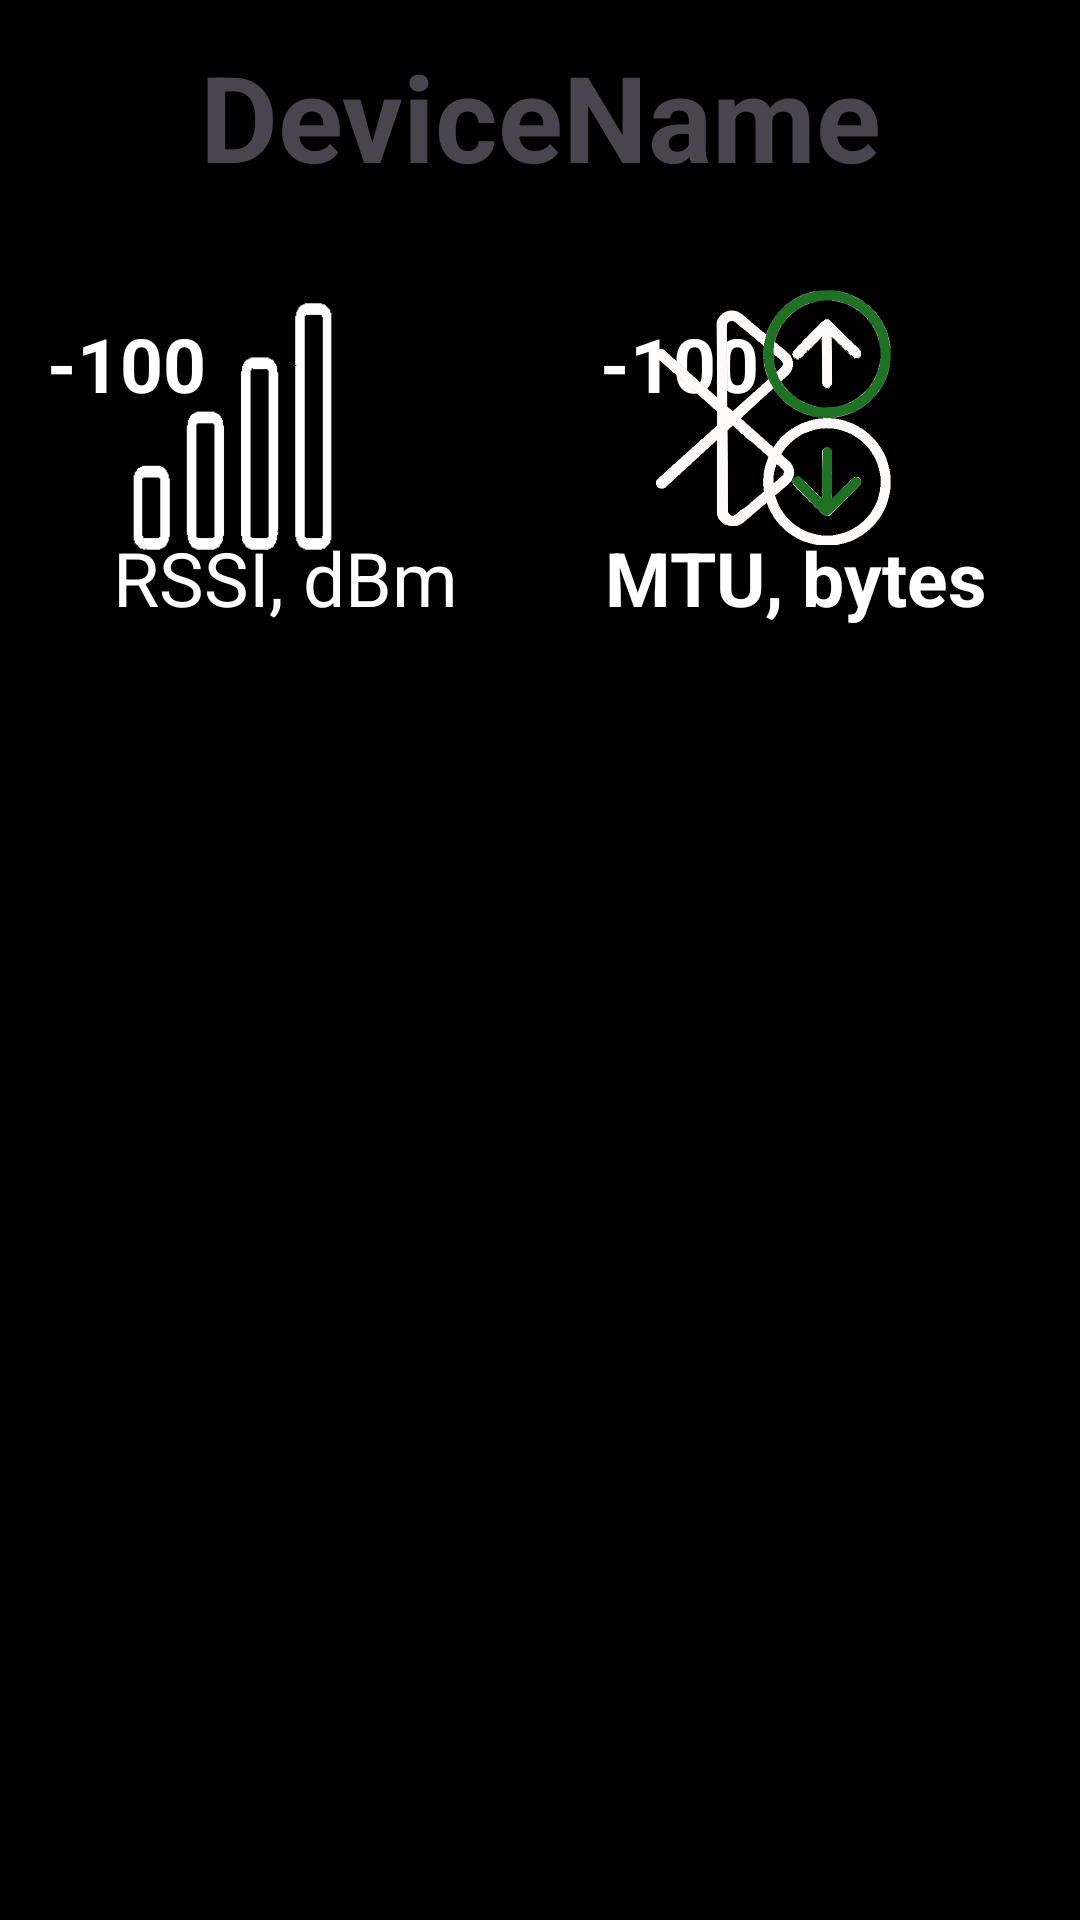

Screen size 1080px×1920px. Icon name, then its center in pixels as (x,y):
no bars: (229,458)
